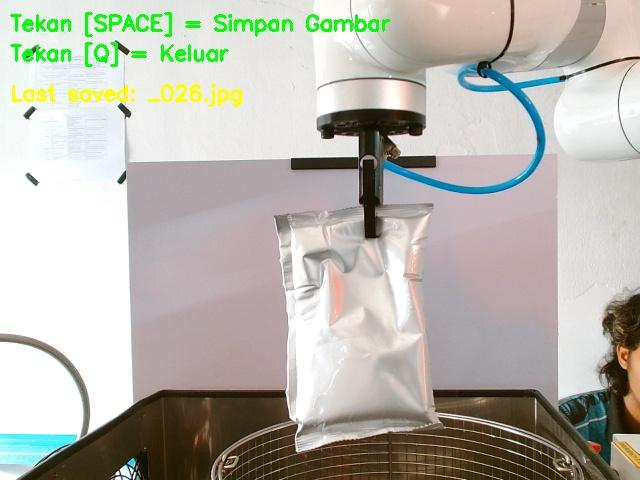retort-pouch: (273, 201, 444, 450)
